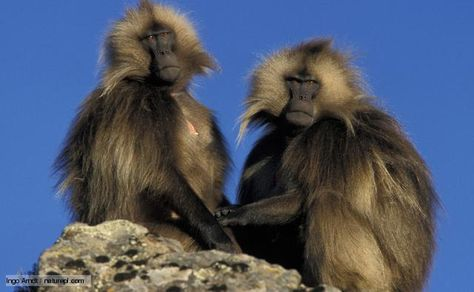Gelada: (254, 47, 439, 289), (73, 10, 234, 246)
